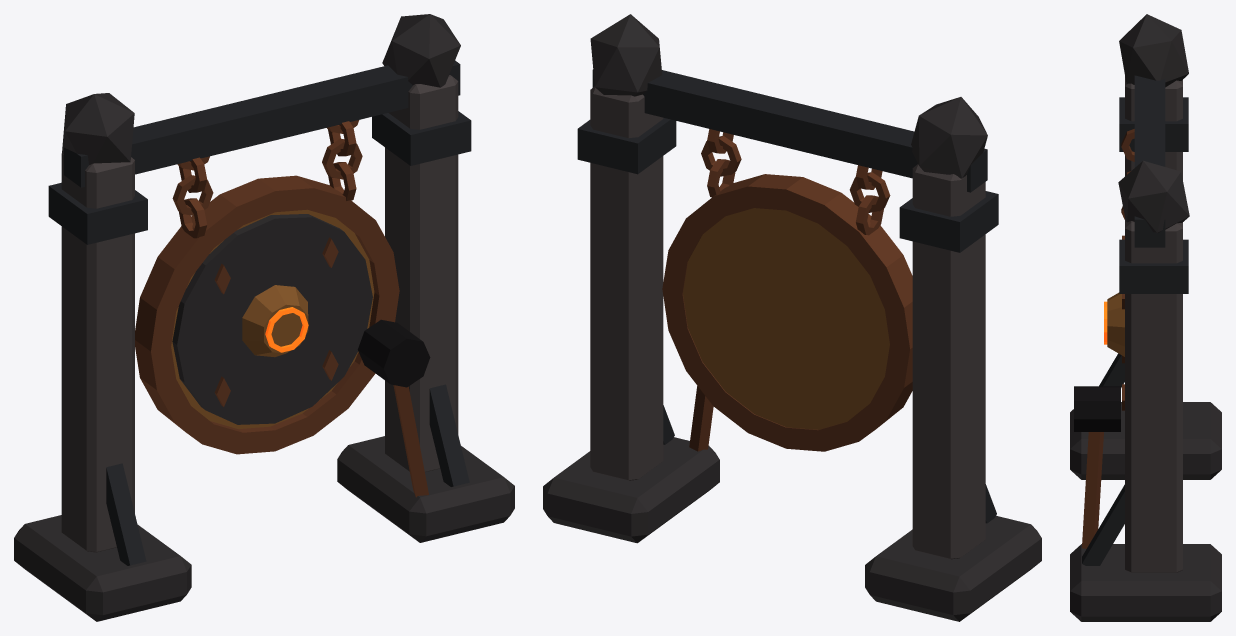
The model's file is Chained_Gong.glb.
3 renders of one model, left to right at view 1: azimuth 30°, elevation 25°; view 2: azimuth 150°, elevation 25°; view 3: azimuth 270°, elevation 25°, orthographic. The views are drawn at different scales.
Visible parts, largest first — view 1: Chained_Gong; view 2: Chained_Gong; view 3: Chained_Gong.
Part boxes in pixels (<box>): Chained_Gong: <box>14,14,514,621</box>; Chained_Gong: <box>543,14,1041,621</box>; Chained_Gong: <box>1070,14,1221,621</box>.
Bounding box in the file's own units: 2.76 × 3.03 × 0.94.
